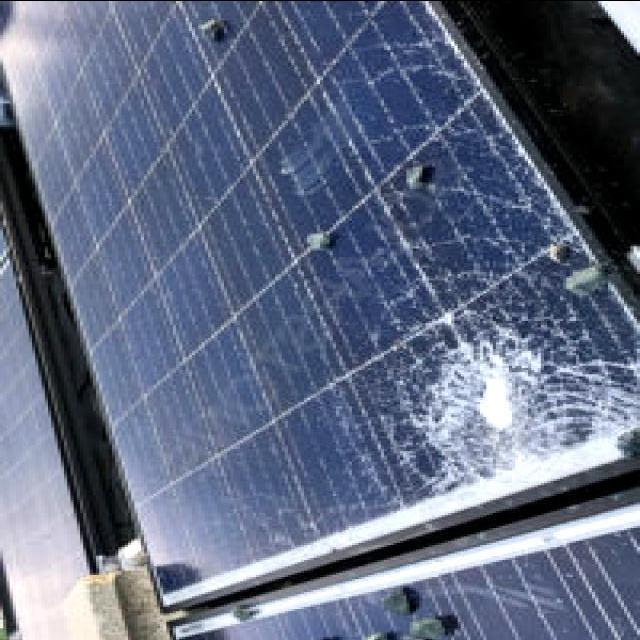cracked: (12, 1, 640, 581)
